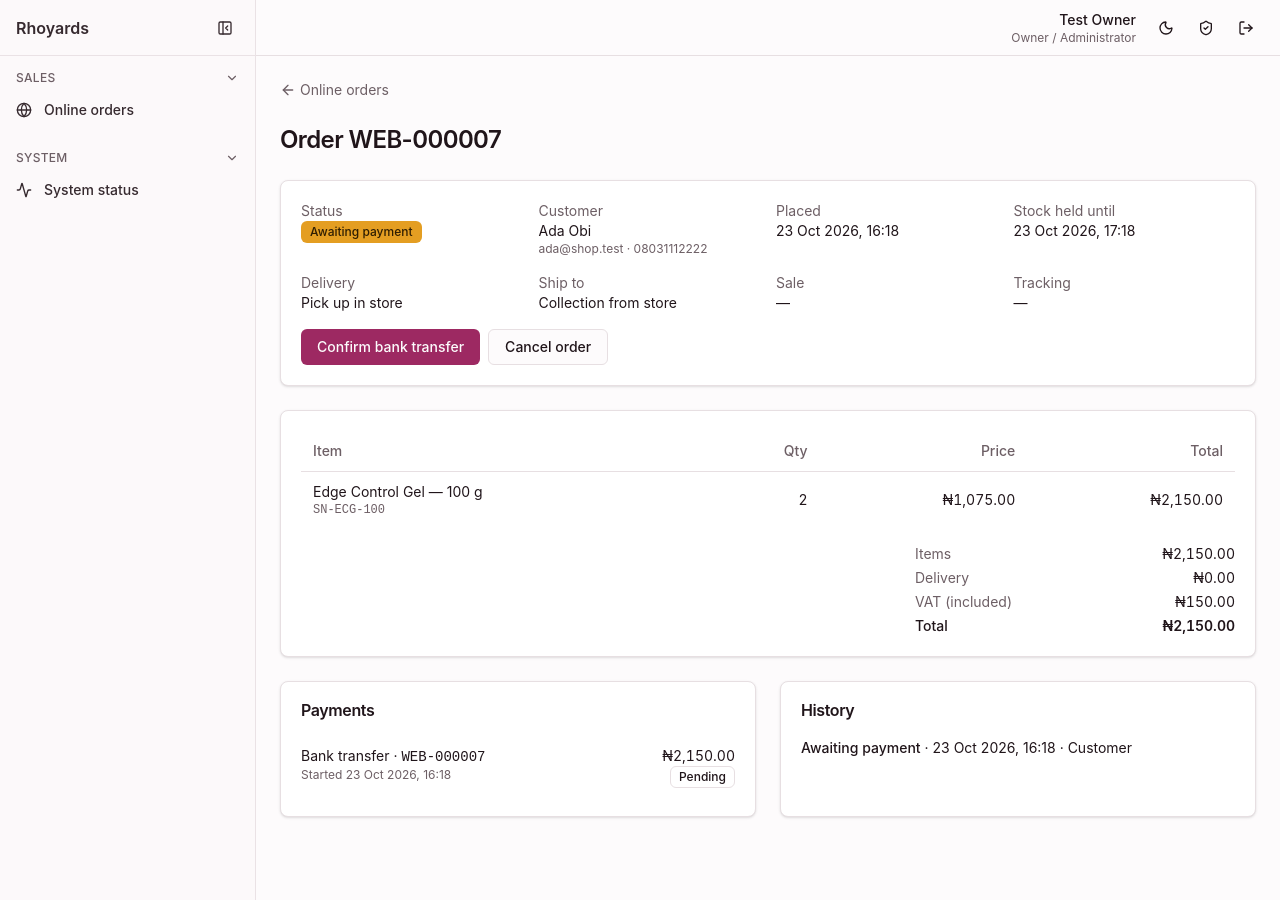
Test case: online order page › lets a payments verifier confirm a bank transfer with the bank reference, then offers the next step
Click the button "Confirm bank transfer": coordinates (391, 347) x1=301 y1=329 x2=480 y2=365
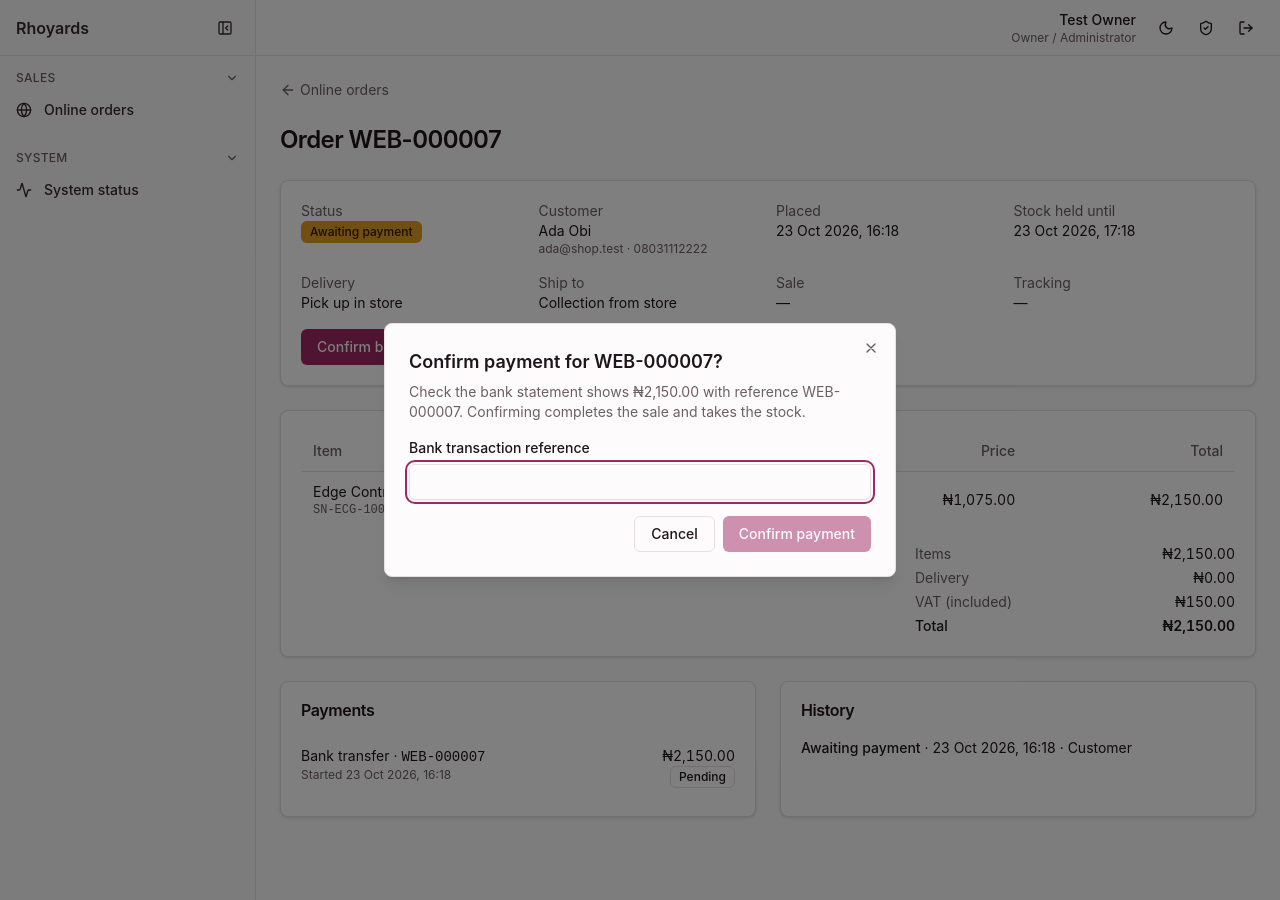
Now the button "Confirm payment" is disabled, box x1=723 y1=516 x2=871 y2=552
In the field labelled "Bank transaction reference": coordinates (640, 482) x1=409 y1=464 x2=871 y2=500, type "GTB-778812"
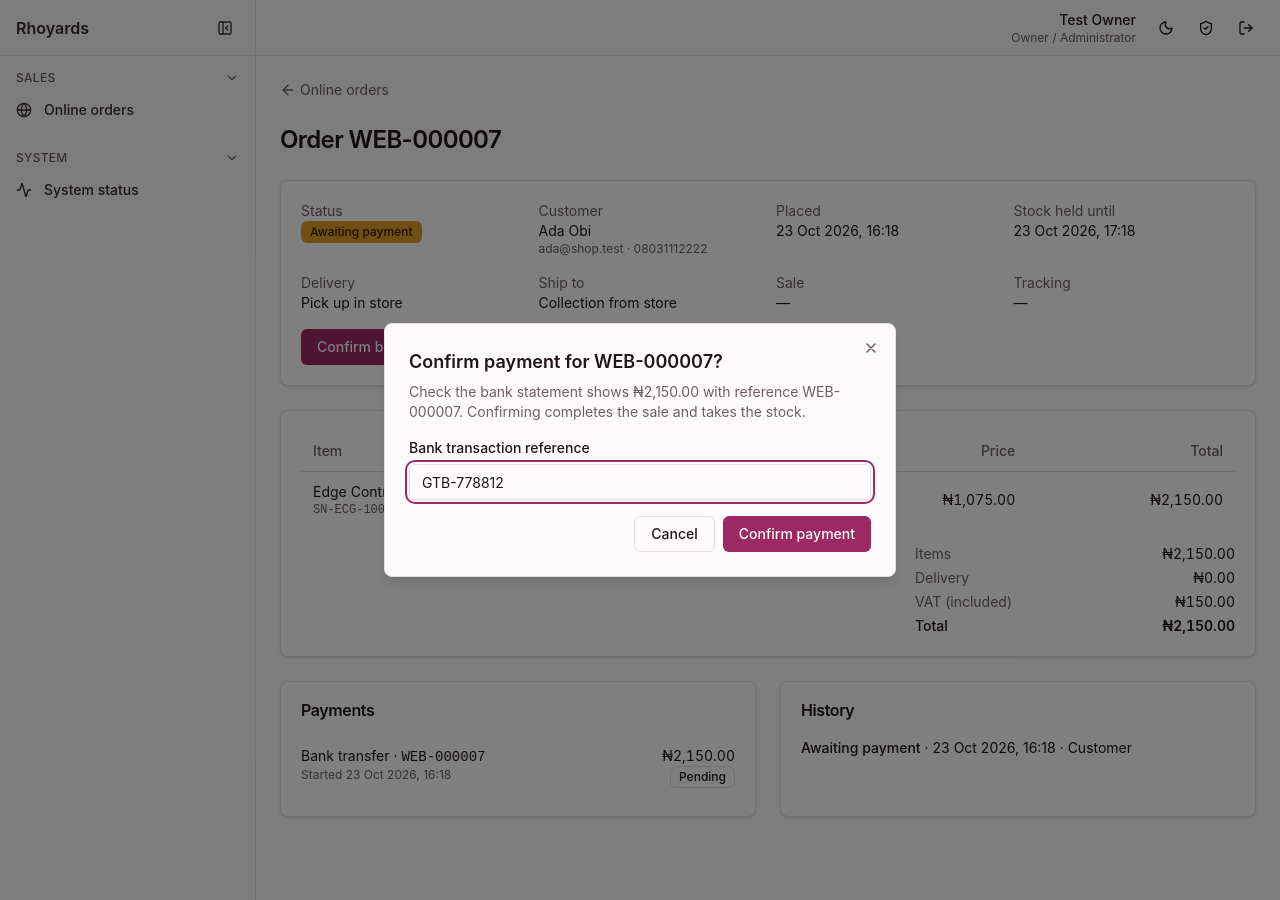
Click the button "Confirm payment": coordinates (797, 534) x1=723 y1=516 x2=871 y2=552
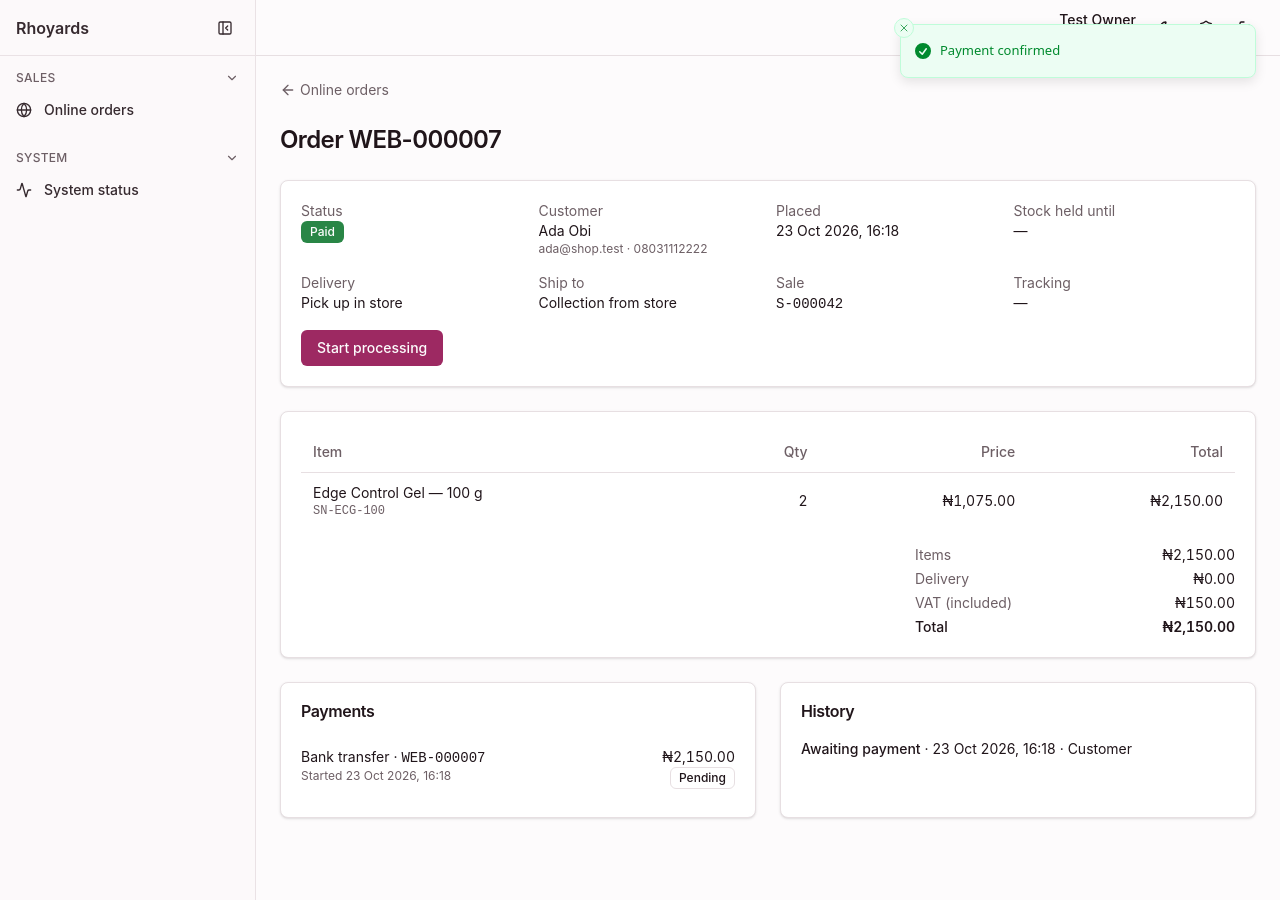
Now the button "Start processing" is shown, box x1=301 y1=330 x2=443 y2=366
Now the button "Confirm bank transfer" is gone
